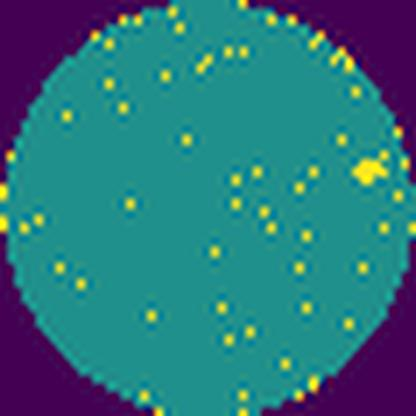Loc: (350, 154, 393, 190)
